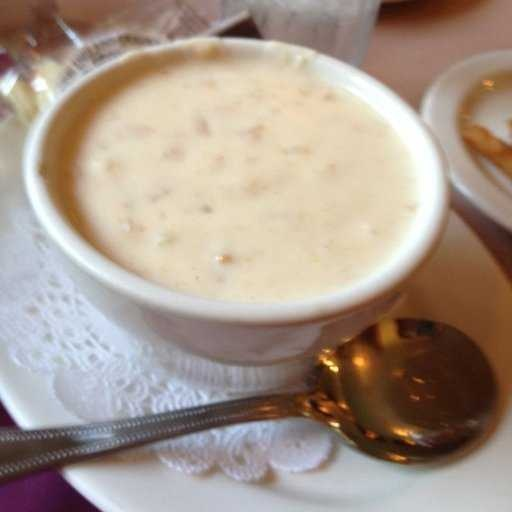soup: (74, 58, 383, 285)
